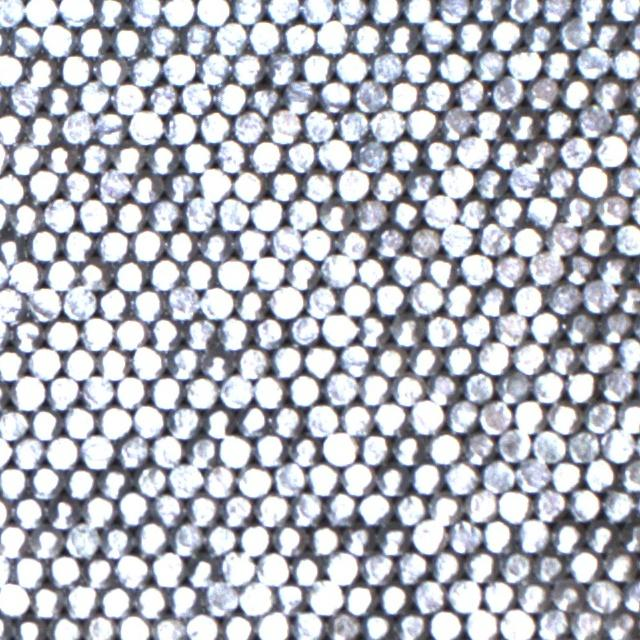tool: (599, 366, 634, 401), (410, 518, 445, 553), (495, 369, 530, 404), (322, 430, 357, 465), (407, 279, 442, 314), (510, 281, 544, 316), (409, 398, 444, 432), (255, 492, 289, 527), (585, 578, 620, 612), (359, 549, 394, 583), (422, 193, 457, 227), (152, 551, 186, 586), (512, 339, 546, 374), (236, 463, 270, 498), (220, 550, 255, 584), (336, 166, 370, 201), (546, 399, 580, 434), (601, 426, 635, 461), (115, 552, 149, 587), (514, 456, 548, 491), (321, 311, 355, 345), (512, 398, 546, 432), (269, 343, 303, 377), (446, 518, 480, 552), (497, 487, 531, 521), (219, 492, 253, 526), (354, 196, 388, 230), (45, 317, 79, 351), (482, 577, 516, 611), (268, 283, 302, 317), (128, 110, 162, 144), (282, 19, 316, 53), (281, 80, 315, 114), (184, 374, 218, 408), (594, 132, 628, 166), (326, 550, 360, 584), (576, 163, 610, 197), (558, 132, 592, 166), (429, 548, 463, 582), (169, 522, 203, 556), (372, 281, 406, 315), (304, 402, 338, 436), (583, 398, 617, 432), (335, 107, 369, 141), (601, 486, 635, 520), (64, 522, 98, 556), (248, 19, 282, 53), (42, 197, 76, 231), (323, 370, 357, 404), (602, 547, 636, 581), (307, 521, 341, 555), (480, 458, 514, 492), (8, 140, 42, 174), (266, 167, 300, 201), (373, 343, 407, 377), (528, 309, 562, 343), (427, 492, 461, 526), (80, 315, 114, 349), (40, 22, 74, 56), (594, 192, 628, 226), (476, 221, 510, 255), (420, 17, 454, 51), (448, 577, 482, 611), (203, 580, 237, 614), (578, 222, 612, 256), (289, 492, 323, 526), (286, 313, 320, 347), (444, 459, 478, 493), (99, 524, 133, 558), (374, 400, 408, 434), (26, 285, 60, 319), (48, 552, 82, 586), (167, 582, 201, 616), (463, 488, 497, 522), (308, 579, 342, 613), (442, 282, 476, 316), (320, 252, 354, 286), (522, 19, 556, 53), (461, 430, 495, 464), (338, 341, 372, 375), (11, 375, 45, 409), (544, 220, 578, 254), (439, 163, 473, 197), (166, 404, 200, 438), (567, 486, 601, 520), (110, 24, 144, 58), (265, 50, 299, 84), (199, 228, 233, 262), (592, 76, 626, 110), (131, 286, 164, 321), (304, 342, 337, 377), (81, 493, 114, 528), (477, 339, 510, 374), (80, 433, 113, 468), (45, 375, 80, 408), (499, 607, 534, 640), (583, 455, 616, 490), (549, 578, 584, 611), (135, 520, 168, 555), (516, 516, 549, 551), (489, 75, 524, 108), (78, 197, 111, 231), (116, 491, 150, 524), (28, 345, 62, 378), (81, 374, 114, 408), (267, 108, 300, 142), (426, 312, 459, 346), (166, 285, 199, 319), (324, 491, 357, 525), (77, 79, 110, 113), (256, 551, 289, 585), (272, 461, 306, 494), (306, 460, 339, 494), (133, 462, 167, 495), (249, 139, 282, 173), (28, 167, 61, 201), (479, 399, 512, 433), (29, 464, 62, 498), (358, 370, 391, 404), (287, 372, 320, 406), (395, 548, 428, 582), (30, 584, 63, 618), (182, 256, 215, 290), (531, 368, 564, 402), (133, 584, 167, 617), (250, 197, 284, 230), (533, 486, 566, 520), (318, 136, 351, 170), (549, 520, 582, 554), (45, 434, 79, 467), (93, 112, 127, 145), (204, 522, 237, 556), (370, 106, 403, 140), (145, 81, 179, 114), (200, 285, 233, 319), (355, 138, 388, 172), (234, 286, 267, 320), (197, 167, 231, 200), (358, 490, 391, 524), (8, 258, 41, 292), (148, 257, 182, 290), (564, 369, 597, 403), (148, 317, 182, 350), (304, 284, 337, 318), (284, 138, 317, 172), (532, 549, 565, 583), (409, 460, 443, 493), (445, 398, 478, 432), (476, 282, 509, 316), (147, 198, 181, 231), (96, 168, 130, 201), (183, 316, 216, 350), (216, 196, 249, 230), (271, 523, 305, 556), (167, 345, 200, 379), (498, 549, 532, 582), (269, 224, 302, 258), (114, 316, 148, 349), (28, 406, 62, 439), (546, 280, 579, 314), (408, 343, 442, 376), (150, 433, 183, 467), (369, 48, 402, 82), (29, 524, 62, 558), (472, 106, 505, 140), (130, 227, 164, 260), (184, 433, 217, 467), (375, 462, 408, 496), (376, 522, 409, 556), (144, 22, 178, 55), (438, 105, 471, 139), (215, 138, 248, 172), (353, 78, 386, 112), (506, 106, 539, 140), (441, 222, 474, 256), (426, 372, 459, 406), (563, 310, 597, 343), (388, 137, 421, 171), (442, 342, 476, 375), (270, 403, 303, 437), (284, 255, 318, 288), (201, 348, 235, 381), (472, 47, 506, 80), (318, 198, 352, 231), (76, 24, 110, 57), (251, 254, 284, 288), (497, 427, 530, 461), (62, 346, 96, 379), (384, 20, 418, 53), (62, 285, 95, 319), (412, 579, 446, 612), (96, 228, 129, 262), (568, 607, 602, 640), (114, 374, 147, 408), (567, 548, 600, 582), (390, 313, 424, 346), (162, 50, 196, 83), (12, 554, 46, 587), (566, 428, 599, 462), (62, 404, 96, 437), (584, 520, 618, 553), (290, 553, 324, 586), (10, 318, 43, 352), (239, 580, 273, 613), (427, 430, 460, 464), (12, 434, 45, 468), (603, 607, 637, 640), (112, 258, 146, 291), (341, 522, 374, 556), (463, 608, 498, 640), (168, 462, 201, 495), (456, 134, 489, 167), (253, 374, 286, 407), (182, 196, 215, 229), (131, 344, 164, 377), (198, 109, 231, 142), (232, 109, 265, 142), (219, 373, 252, 406), (252, 316, 285, 349), (558, 16, 591, 49), (507, 47, 540, 80), (407, 224, 440, 257), (473, 166, 506, 199), (181, 139, 214, 172), (581, 339, 614, 372), (202, 463, 235, 496), (549, 458, 582, 491), (371, 169, 404, 202), (97, 347, 130, 380), (525, 193, 558, 226), (150, 375, 183, 408), (455, 19, 488, 52), (576, 44, 609, 77), (78, 141, 111, 174), (130, 170, 163, 203), (96, 286, 129, 319), (217, 256, 250, 289), (393, 491, 426, 524), (351, 21, 384, 54), (253, 432, 286, 465), (302, 108, 335, 141), (510, 224, 543, 257), (146, 141, 179, 174), (94, 53, 127, 86), (115, 434, 148, 467), (560, 193, 593, 226), (99, 584, 132, 617), (577, 103, 610, 136), (356, 313, 389, 346), (335, 49, 368, 82), (404, 168, 437, 201), (459, 251, 492, 284), (41, 82, 74, 115), (532, 429, 565, 462), (231, 51, 264, 84), (372, 224, 405, 257), (248, 82, 281, 115), (530, 250, 563, 283), (341, 461, 374, 494), (535, 607, 568, 640), (524, 137, 557, 170), (111, 82, 144, 115), (82, 554, 115, 587), (316, 19, 349, 52), (420, 77, 453, 110), (543, 165, 576, 198), (340, 402, 373, 435), (25, 55, 58, 88), (197, 52, 230, 85), (287, 433, 320, 466), (300, 49, 333, 82), (582, 278, 615, 311), (455, 76, 488, 109), (113, 199, 146, 232), (165, 228, 198, 261), (12, 495, 45, 528), (274, 579, 307, 612), (236, 404, 269, 437), (425, 253, 458, 286), (215, 80, 248, 113), (186, 553, 219, 586), (61, 228, 94, 261), (482, 518, 514, 552), (422, 137, 456, 169), (180, 80, 212, 114), (232, 167, 264, 201), (218, 433, 250, 467), (78, 257, 110, 291), (152, 491, 184, 525), (358, 431, 390, 465), (489, 17, 521, 51), (129, 52, 161, 86), (27, 112, 59, 146), (284, 196, 318, 228), (460, 310, 492, 344), (599, 308, 631, 342), (132, 403, 164, 437), (402, 50, 436, 82), (238, 522, 270, 556), (428, 608, 462, 640), (186, 492, 218, 526), (344, 581, 376, 615), (491, 193, 523, 227), (597, 253, 631, 285), (214, 20, 246, 54), (388, 252, 422, 284), (338, 282, 372, 314), (392, 432, 424, 466), (44, 258, 77, 290), (217, 316, 250, 348), (507, 164, 540, 196), (180, 22, 213, 54), (547, 342, 580, 374), (405, 106, 437, 139), (461, 370, 494, 402), (494, 311, 526, 344), (302, 169, 334, 202), (8, 82, 40, 115), (458, 195, 490, 228), (64, 466, 97, 498), (46, 497, 78, 530), (464, 548, 496, 581), (337, 226, 370, 258), (98, 466, 131, 498), (234, 226, 267, 258), (64, 584, 97, 616), (236, 346, 269, 378), (318, 79, 350, 112), (302, 226, 334, 259), (164, 111, 196, 144), (389, 196, 421, 229), (378, 581, 410, 614), (27, 228, 60, 260), (164, 170, 197, 202), (62, 169, 94, 202), (542, 47, 574, 80), (386, 78, 419, 110), (59, 52, 92, 84), (494, 252, 526, 285), (98, 404, 130, 437), (354, 253, 386, 286), (516, 580, 549, 612), (526, 75, 558, 108), (592, 17, 624, 50), (112, 142, 144, 175), (542, 105, 574, 138), (202, 405, 234, 438), (256, 609, 290, 640), (438, 49, 470, 81), (560, 76, 592, 108), (8, 24, 40, 56), (44, 142, 76, 174), (563, 252, 595, 284), (8, 203, 40, 235), (392, 372, 424, 404), (490, 137, 522, 169), (61, 110, 92, 143), (292, 609, 324, 640), (610, 45, 640, 78), (610, 106, 640, 139), (326, 610, 359, 640), (221, 611, 255, 640), (0, 465, 29, 498), (359, 611, 392, 640), (116, 612, 150, 640), (612, 163, 640, 197), (0, 522, 28, 556), (185, 612, 219, 640), (0, 582, 28, 616), (394, 611, 426, 640), (82, 612, 115, 640), (613, 220, 640, 254), (0, 406, 27, 439), (24, 0, 58, 26), (94, 0, 128, 26), (0, 346, 26, 379), (196, 0, 229, 26), (0, 170, 26, 203), (152, 614, 185, 640), (48, 614, 81, 640), (0, 286, 24, 321), (162, 0, 194, 26), (129, 0, 162, 25), (59, 0, 92, 25), (615, 337, 640, 370), (616, 398, 640, 432), (0, 112, 25, 144), (334, 0, 367, 24), (300, 0, 333, 24), (12, 616, 45, 640), (436, 0, 470, 23), (0, 231, 25, 262), (402, 0, 434, 24), (616, 282, 640, 314), (471, 0, 504, 23), (0, 53, 23, 86), (539, 0, 572, 23), (573, 0, 607, 22), (618, 518, 640, 552), (232, 0, 264, 23), (368, 0, 400, 23), (266, 0, 298, 23), (619, 457, 640, 491), (506, 0, 538, 22), (621, 576, 640, 612), (609, 0, 640, 21), (0, 0, 24, 26), (625, 17, 640, 50)
